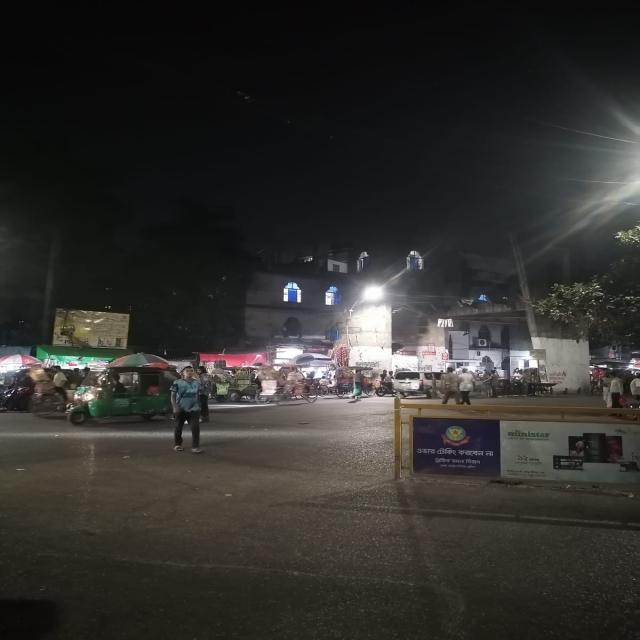person: (171, 366, 201, 453)
